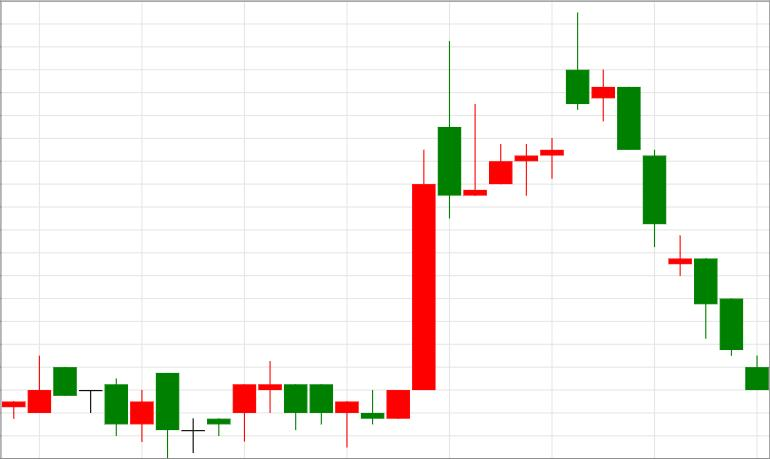shooting_star_fall: (463, 13, 589, 196)
